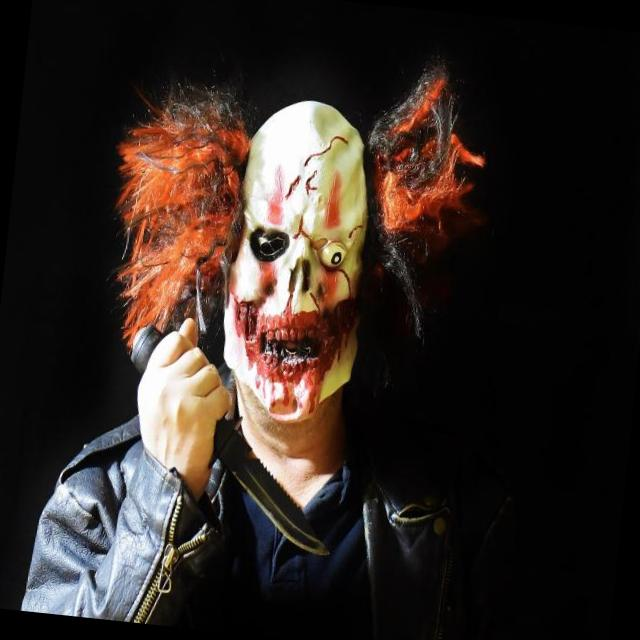Knife: (214, 420, 326, 555)
